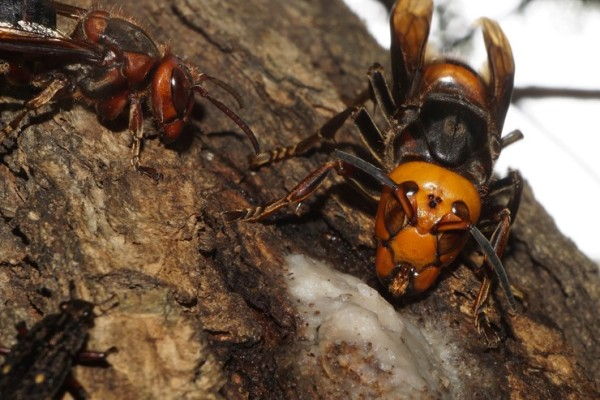asian_giant_hornet: (241, 1, 520, 347), (1, 2, 265, 218)
